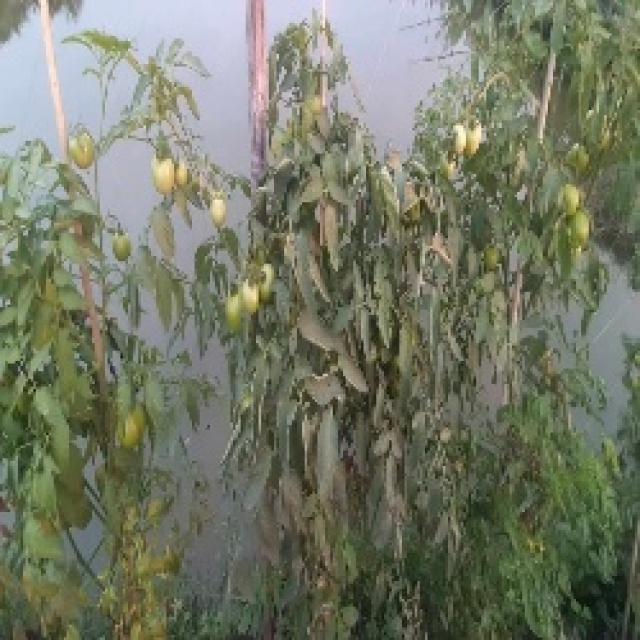tomato: (68, 119, 100, 174), (149, 152, 183, 196), (565, 207, 592, 249), (559, 177, 586, 218), (225, 289, 250, 333), (122, 409, 148, 444), (173, 152, 196, 191), (465, 121, 488, 159), (111, 232, 132, 266), (209, 198, 231, 223), (242, 283, 260, 313)
